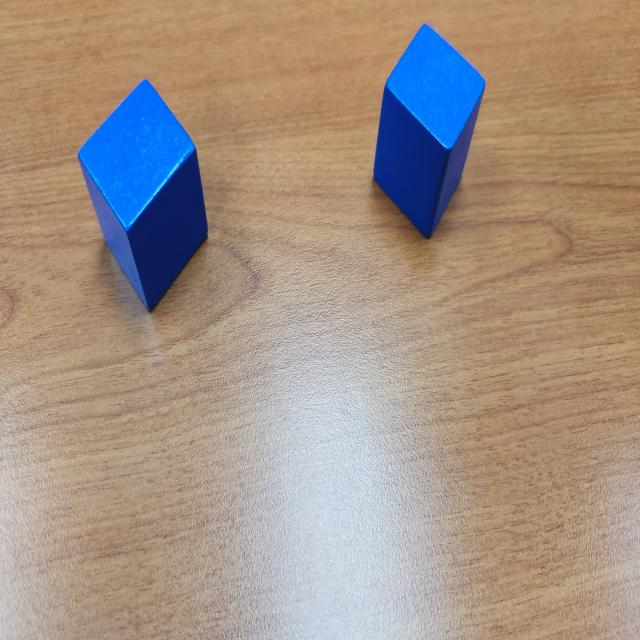blue: (76, 74, 213, 312), (371, 19, 487, 241)
